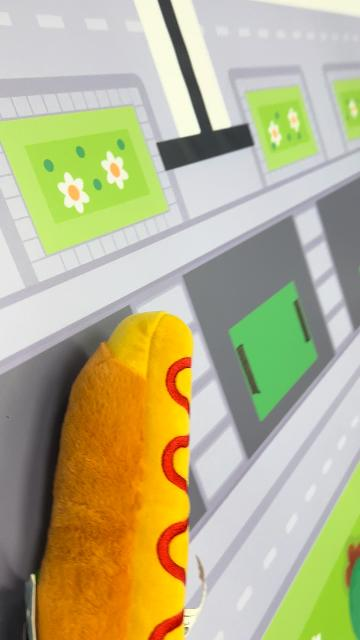hotdog: (34, 310, 195, 638)
